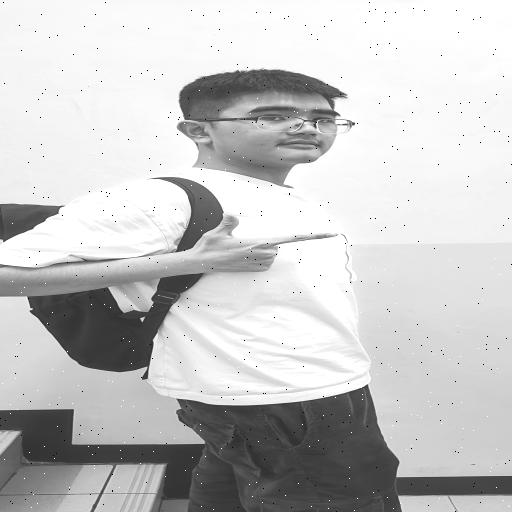next: (174, 208, 351, 285)
